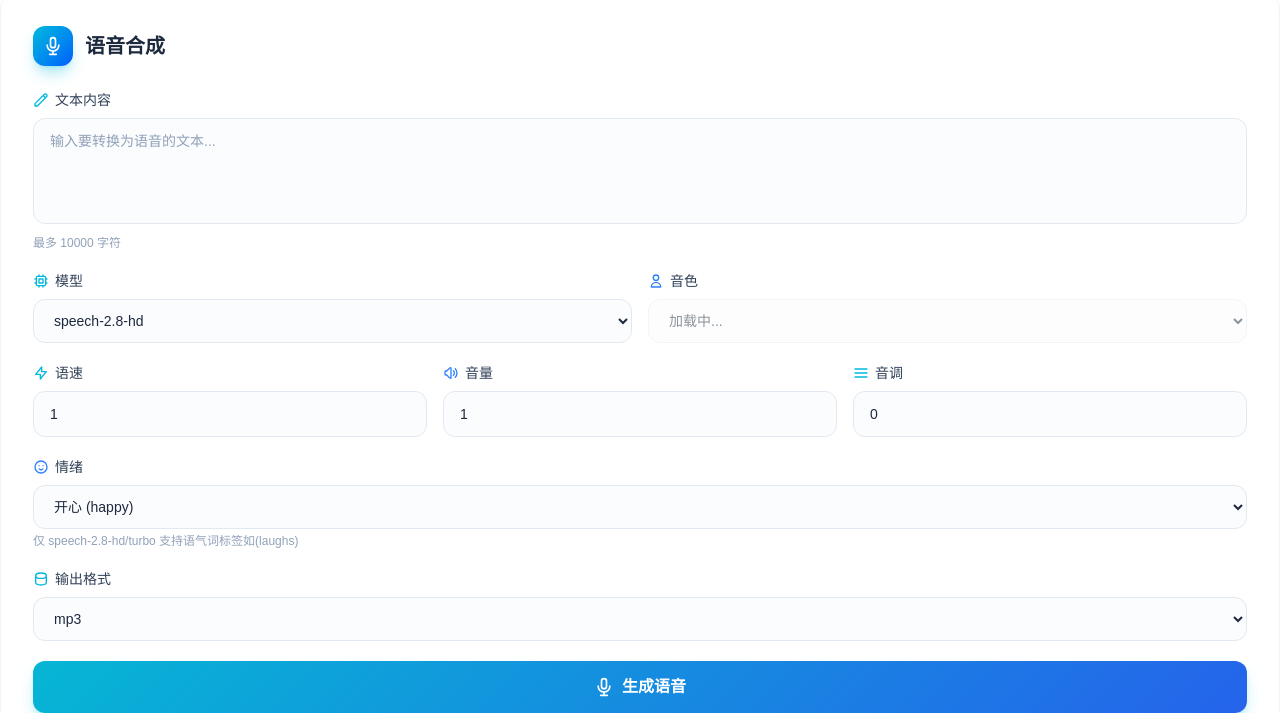
it: SpeechGenForm › should show error when submitting empty text
This screenshot has width=1280, height=713.
What coordinates should you click on to do the following:
click the button "生成语音"
I would click on:
 (640, 687)
Its box is x1=33 y1=661 x2=1247 y2=712.
(page scrolled)
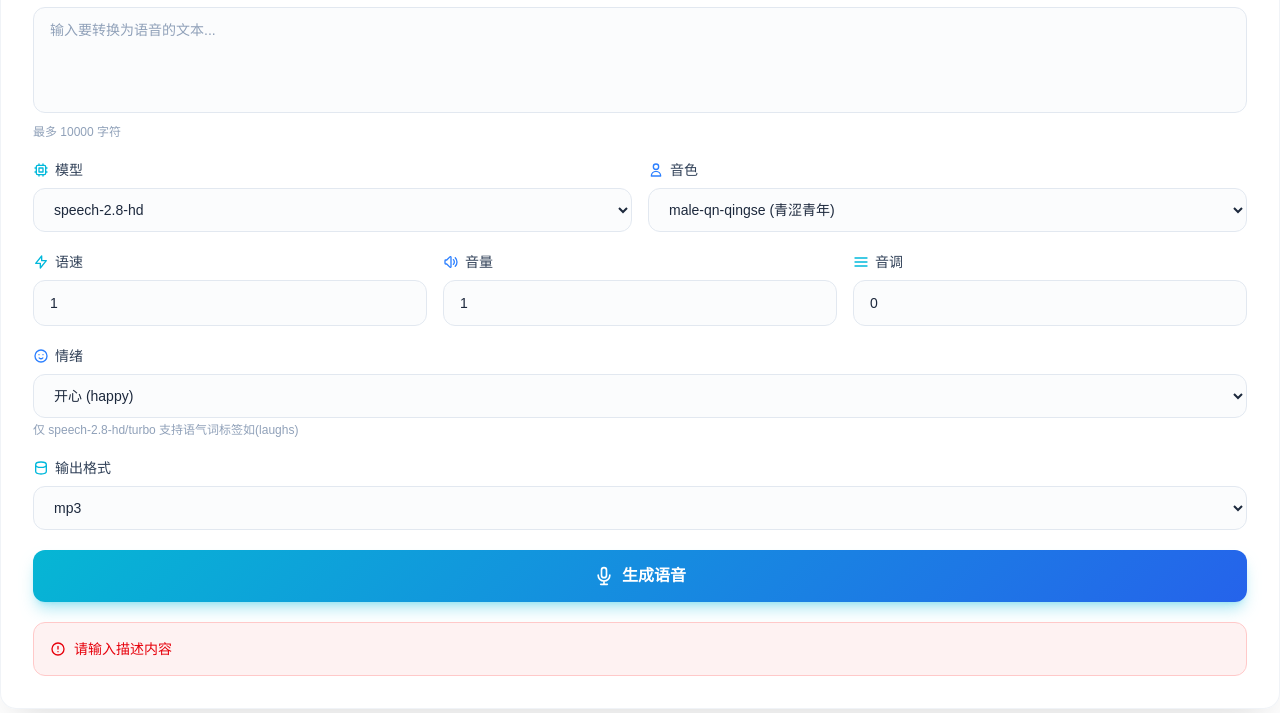
Expected: the text "请输入描述内容" is shown, x1=50 y1=641 x2=172 y2=657
